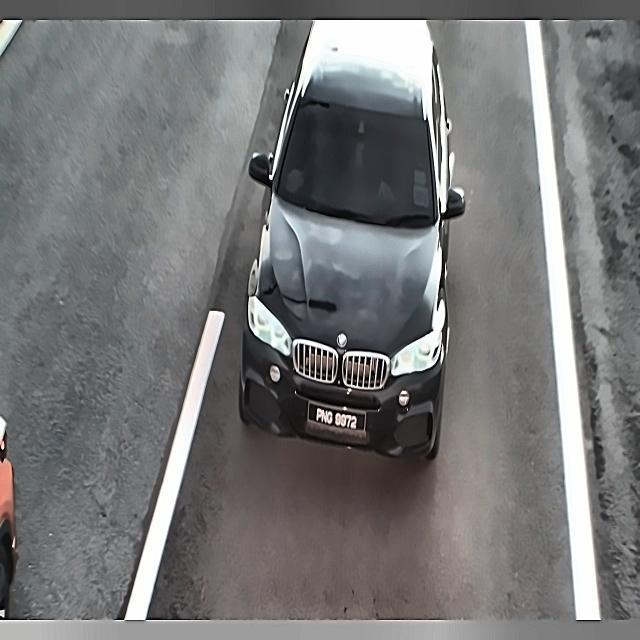car: (298, 397, 370, 439)
